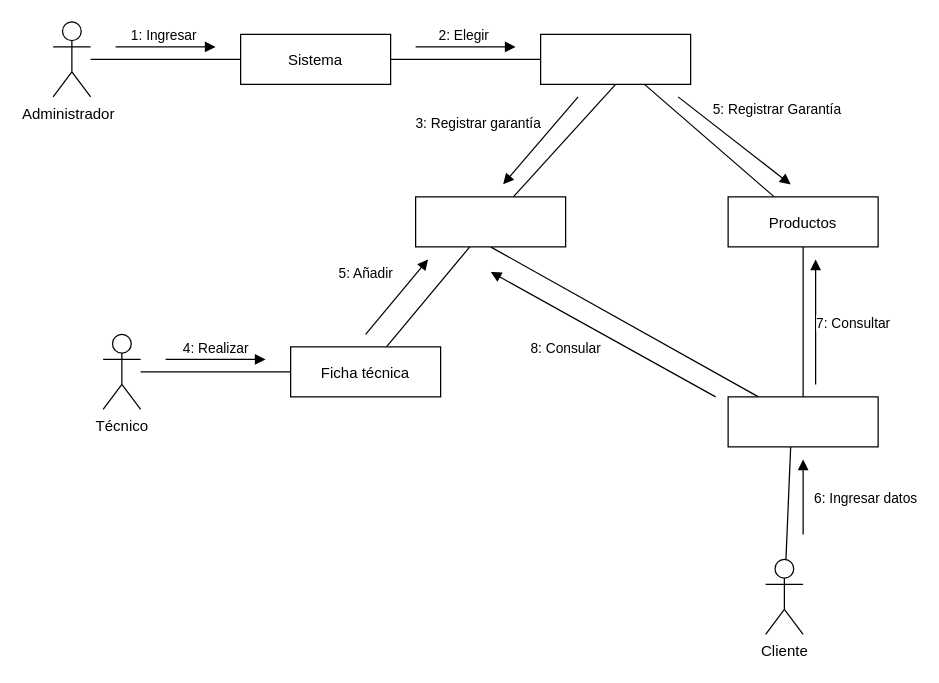
The diagram is 939 pixels wide and 683 high, and some of its shapes have lost their labels. The centre of each missing label's shape, as x and y in pixels:
"Consultar Sistema" belongs at (802,421).
"Garantías" belongs at (615,58).
"Mantenimiento" belongs at (490,221).
